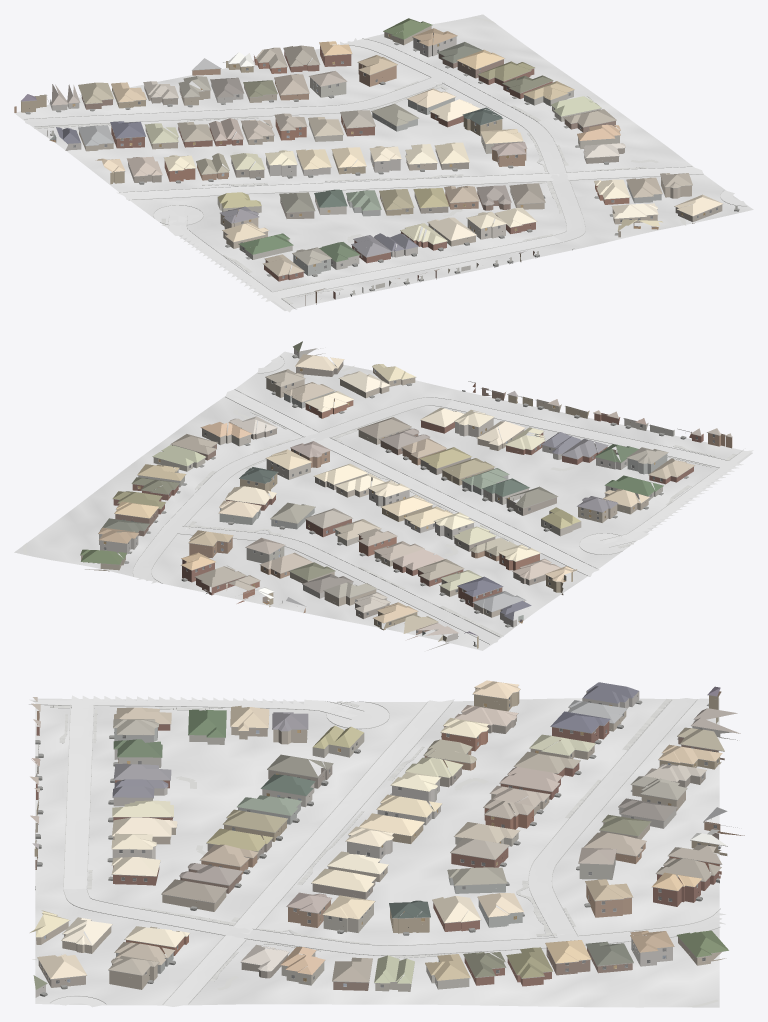
The picture shows the model from 3 angles, top to bottom: view 1: azimuth 30°, elevation 25°; view 2: azimuth 150°, elevation 25°; view 3: azimuth 270°, elevation 25°; orthographic projection. The views are drawn at different scales.
Visible parts, largest first — view 1: ground, roof, concrete, wall, wall_stucco, detail, curb, wall_stone, walk, glass; view 2: ground, roof, concrete, wall, wall_stucco, detail, curb, wall_stone, walk, glass; view 3: ground, roof, concrete, wall, wall_stucco, detail, curb, walk, wall_stone, glass.
Boxes of the visible parts, x1,y1,x2,y2 form: ground: [14, 14, 753, 310]; roof: [21, 18, 722, 293]; concrete: [24, 38, 746, 312]; wall: [14, 26, 722, 305]; wall_stucco: [79, 78, 691, 292]; detail: [21, 25, 739, 299]; curb: [24, 38, 746, 309]; wall_stone: [47, 36, 456, 269]; walk: [34, 16, 686, 304]; glass: [73, 38, 717, 278]; ground: [14, 351, 752, 650]; roof: [80, 341, 731, 635]; concrete: [133, 356, 753, 644]; wall: [81, 361, 732, 648]; wall_stucco: [138, 378, 674, 617]; detail: [80, 347, 731, 646]; curb: [132, 356, 743, 644]; wall_stone: [99, 348, 627, 650]; walk: [23, 365, 736, 636]; glass: [103, 380, 714, 633]; ground: [35, 698, 719, 1007]; roof: [30, 680, 740, 989]; concrete: [29, 695, 725, 1007]; wall: [34, 688, 744, 990]; wall_stucco: [33, 708, 626, 991]; detail: [33, 687, 737, 996]; curb: [29, 699, 720, 1004]; walk: [32, 699, 718, 1007]; wall_stone: [35, 691, 737, 997]; glass: [40, 697, 720, 987].
Size of the model in its own units: 255 by 16.13 by 270.
